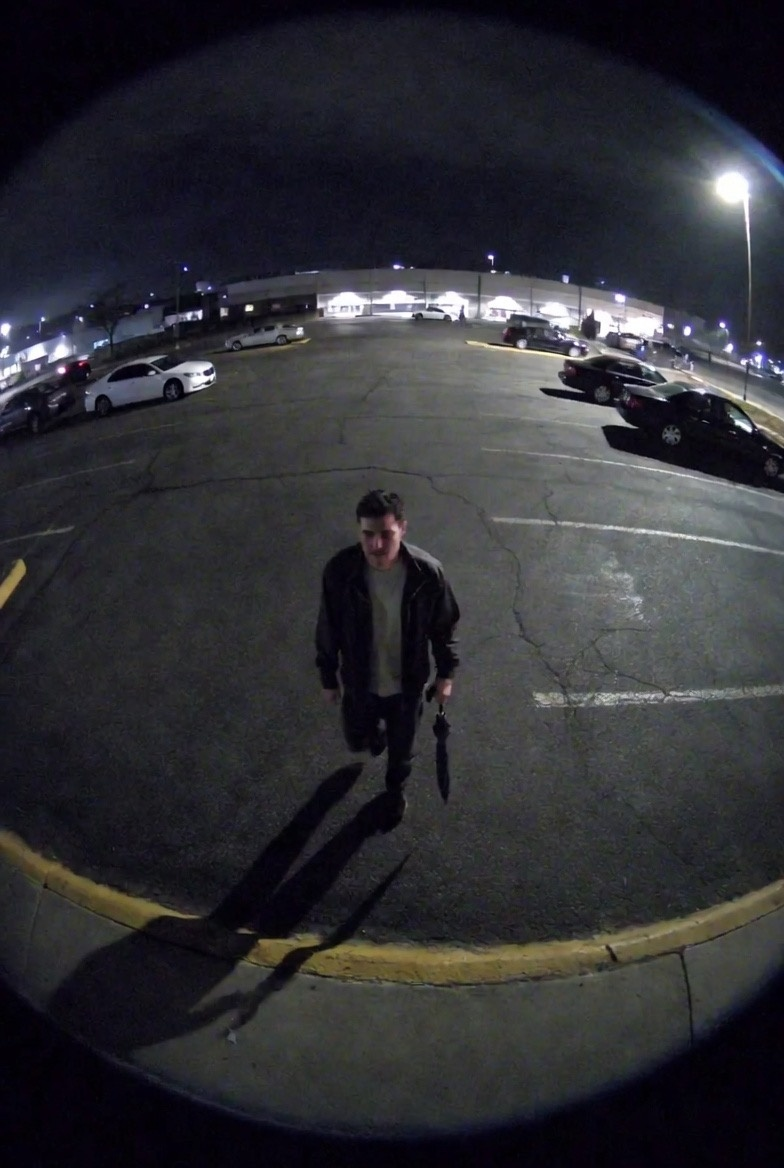person: (316, 487, 454, 803)
umbrella: (418, 672, 485, 816)
